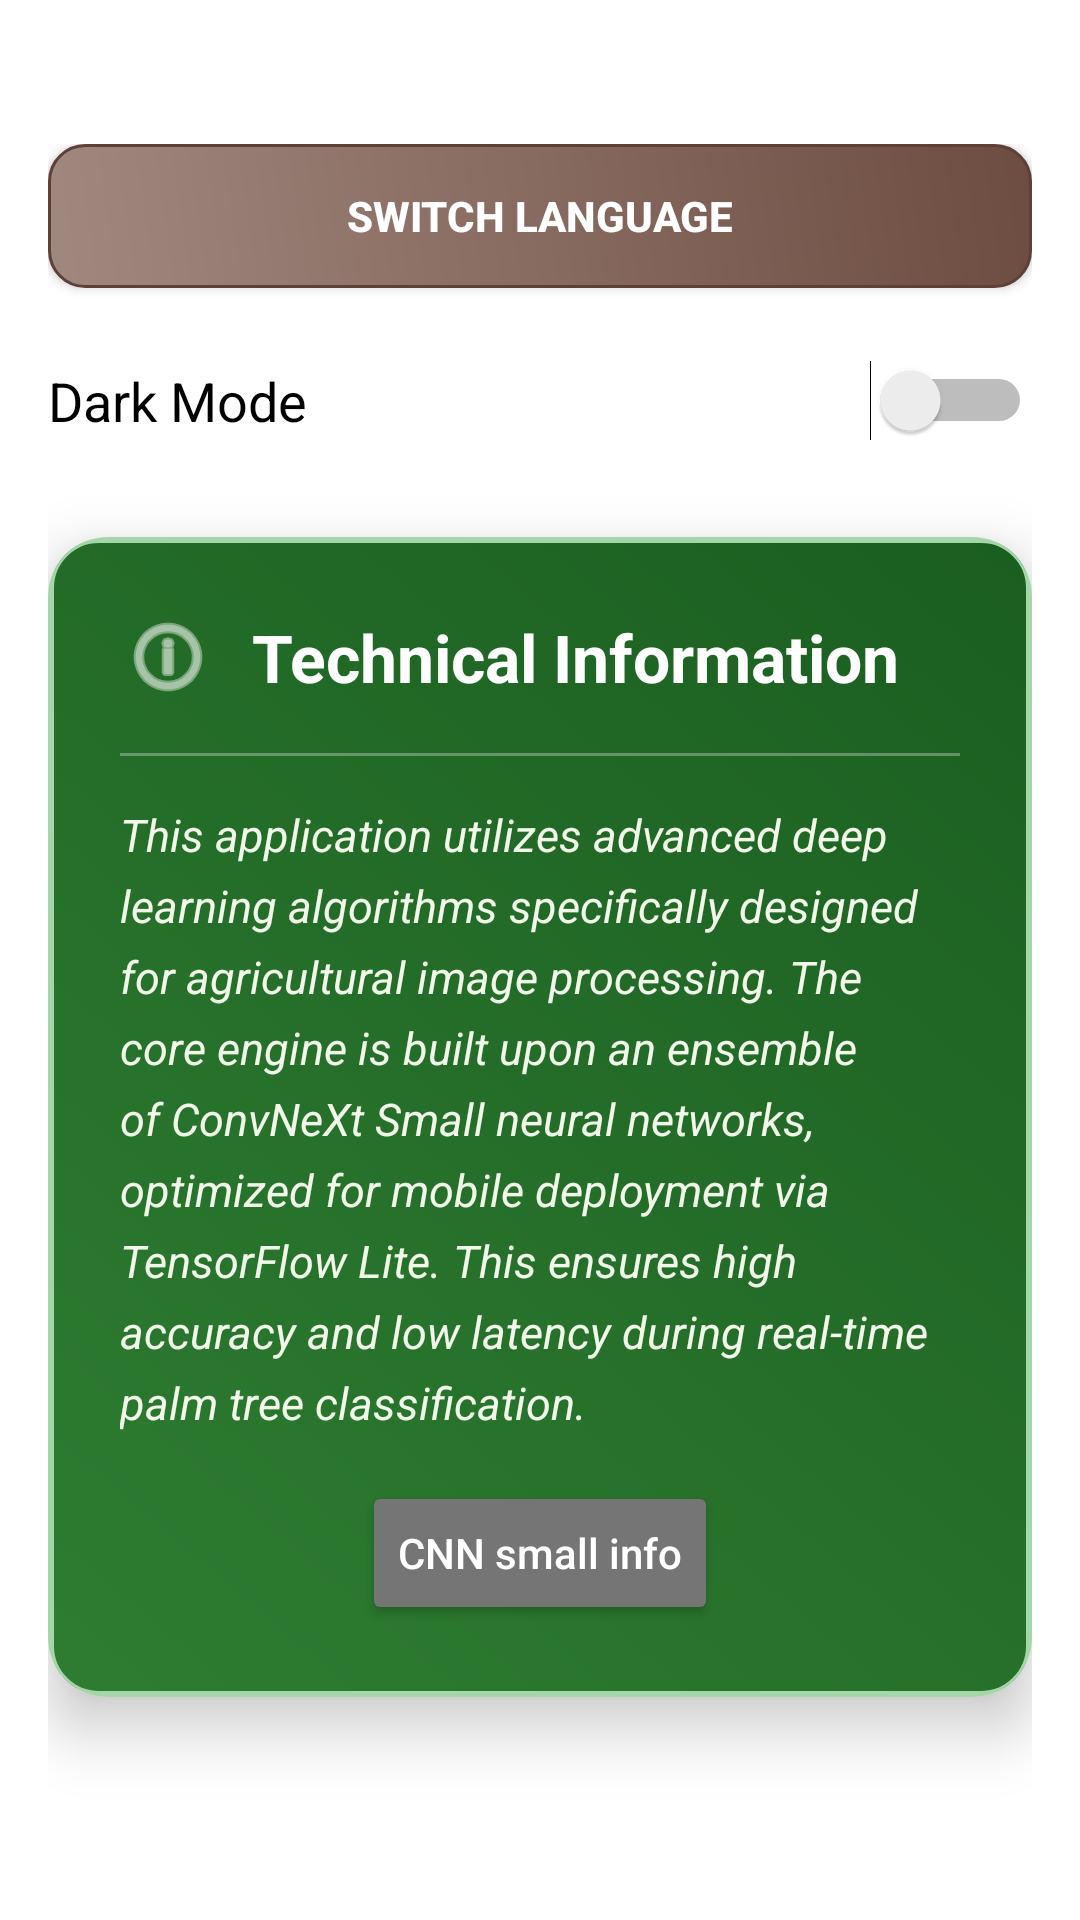

Named icons in this screenshot (1080px x 1920px) and their centers, (x=x, y=y):
info details: (x=168, y=657)
